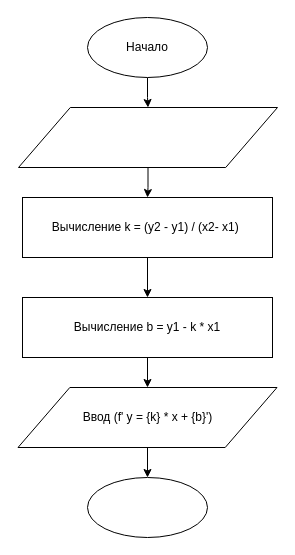
Some shapes in this 295 by 555 pixel diagram are drawn without their labels. Here are the shapes that lost their labels. From the top down, the box of each, then its label:
(18, 106, 278, 168): Ввод x1, y1, x2, y2
(86, 476, 208, 538): Конец
